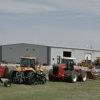Tractor: (6, 51, 60, 92)
